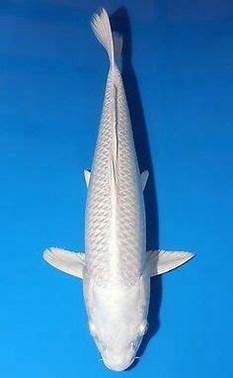white: (43, 6, 194, 371)
